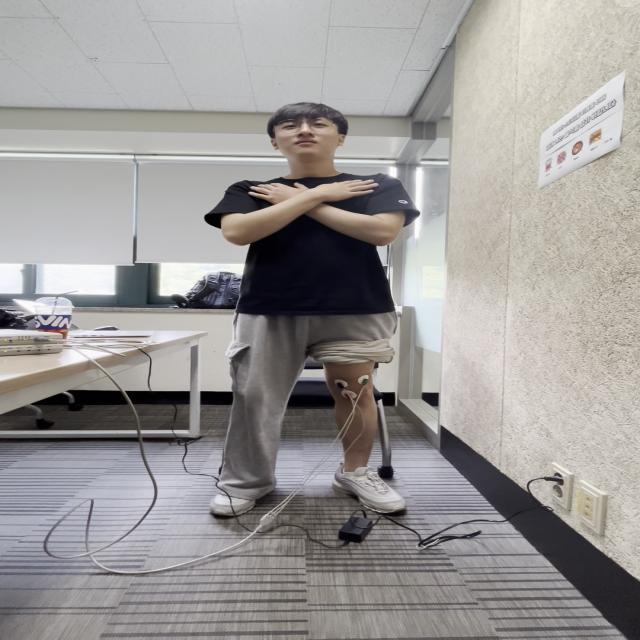stand: (229, 178, 397, 426), (229, 304, 394, 440), (326, 310, 408, 522), (210, 316, 286, 508)
